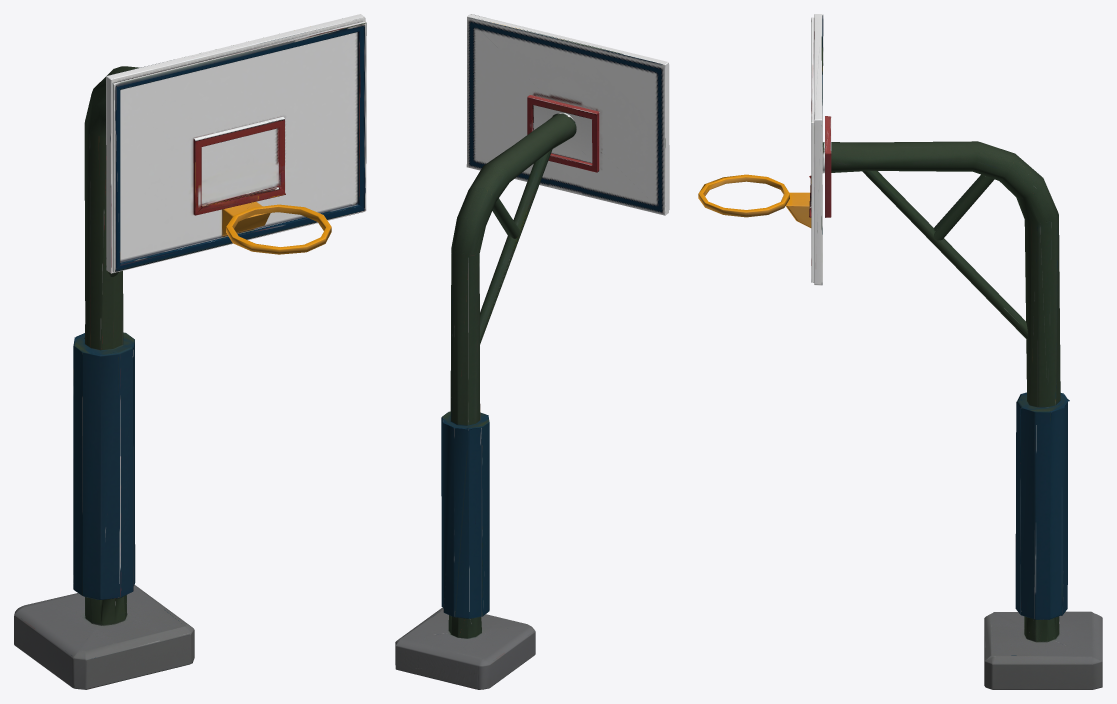
The model's file is basketball-hoop.glb.
3 renders of one model, left to right at view 1: azimuth 30°, elevation 25°; view 2: azimuth 150°, elevation 25°; view 3: azimuth 270°, elevation 25°, orthographic. The views are drawn at different scales.
Size of the model in its own units: 0.3628 by 0.9512 by 0.5825.
Materials: 1 (1 with a texture image).
